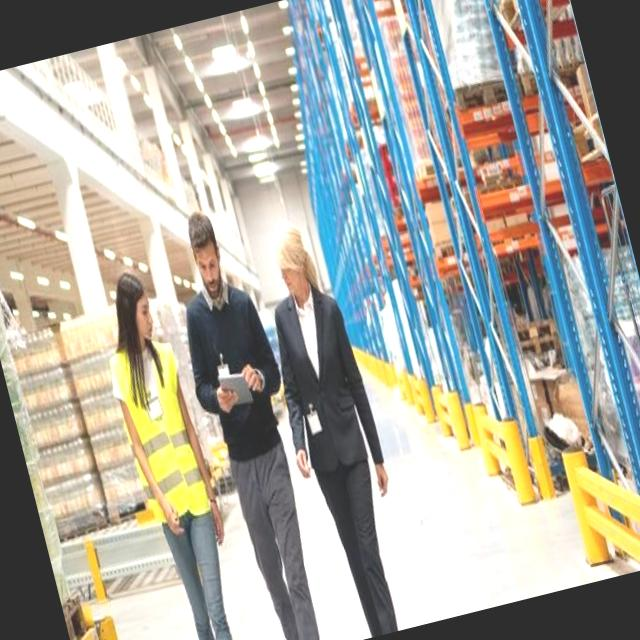no-goggles: (124, 288, 158, 324), (194, 240, 226, 276)
no-helmet: (174, 186, 222, 252), (102, 240, 154, 300), (266, 203, 312, 266)
no-vest: (265, 281, 389, 526), (182, 279, 292, 478)
vest: (104, 338, 210, 525)
